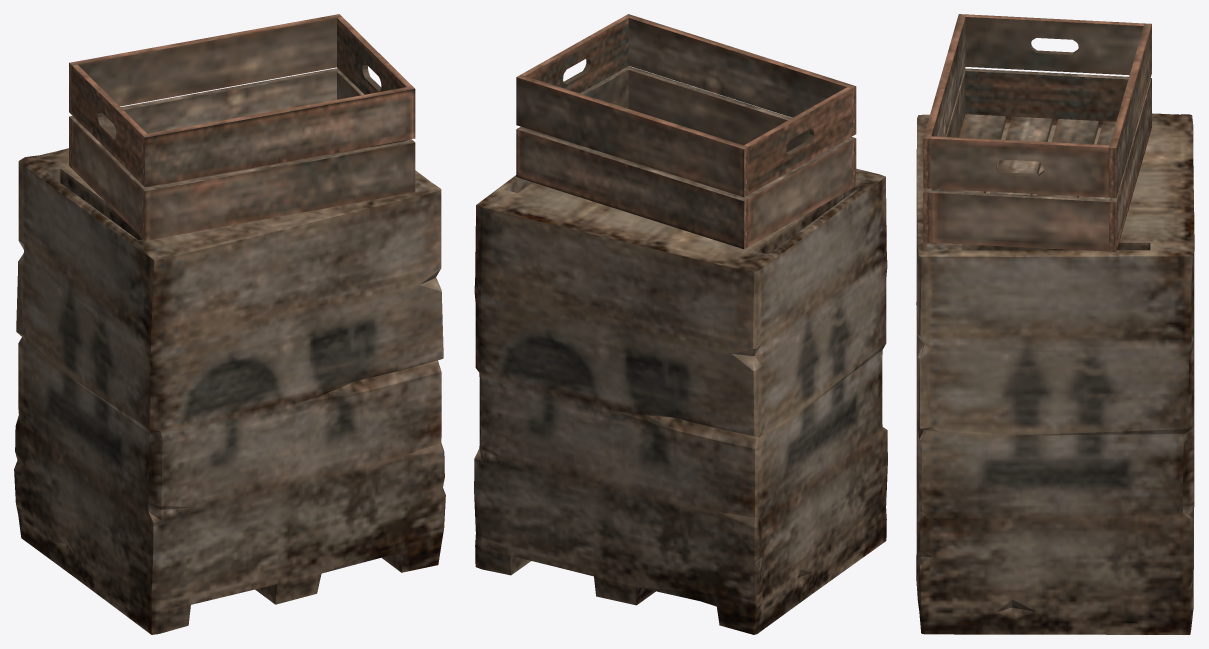
The model's file is SM_Crate02.fbx.
The picture shows the model from 3 angles, left to right: view 1: azimuth 30°, elevation 25°; view 2: azimuth 150°, elevation 25°; view 3: azimuth 270°, elevation 25°; orthographic projection. The views are drawn at different scales.
Visible parts, largest first — view 1: SM_Crate02.mo; view 2: SM_Crate02.mo; view 3: SM_Crate02.mo.
Part boxes in pixels (x1,y1,x2,y2): SM_Crate02.mo: (14, 14, 445, 634); SM_Crate02.mo: (474, 14, 887, 634); SM_Crate02.mo: (916, 14, 1194, 634).
Size of the model in its own units: 101 by 156 by 81.27.
